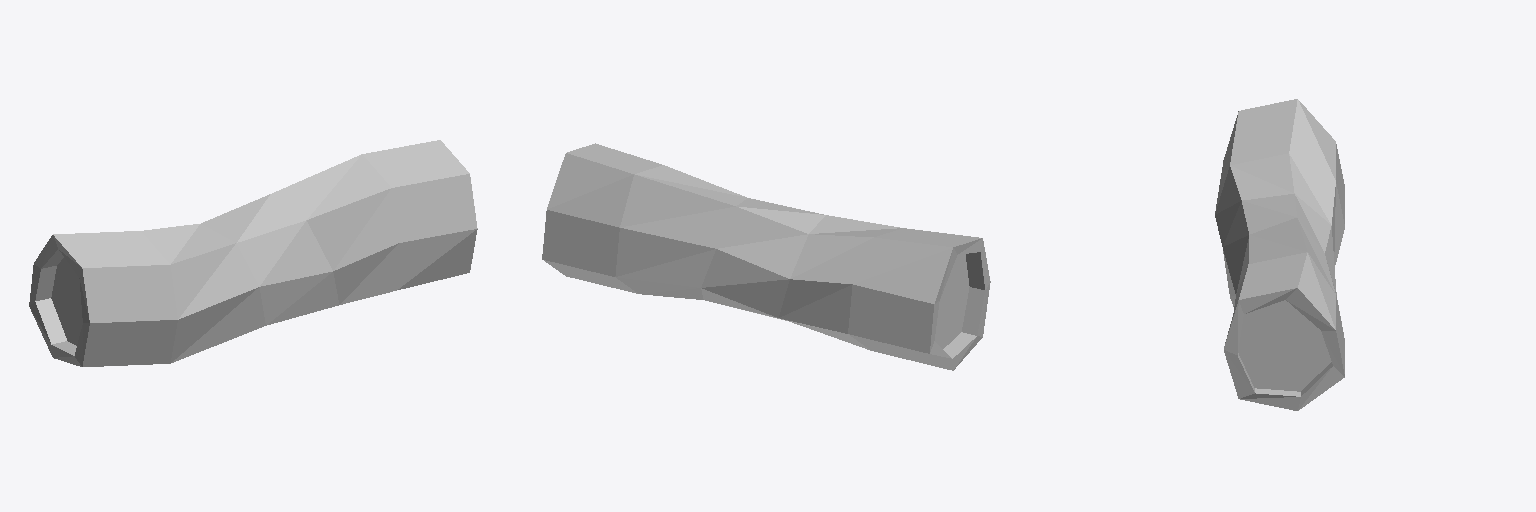
File: Log2.obj
3 views of the same model, side by side, from view 1: azimuth 30°, elevation 25°; view 2: azimuth 150°, elevation 25°; view 3: azimuth 270°, elevation 25° (orthographic).
Parts seen in each view (by area): view 1: Log_3_Cylinder.001; view 2: Log_3_Cylinder.001; view 3: Log_3_Cylinder.001.
Boxes of the visible parts, x1,y1,x2,y2 form: Log_3_Cylinder.001: [29, 140, 477, 366]; Log_3_Cylinder.001: [542, 143, 990, 370]; Log_3_Cylinder.001: [1215, 99, 1344, 410].
Size of the model in its own units: 6.46 by 1.97 by 1.86.